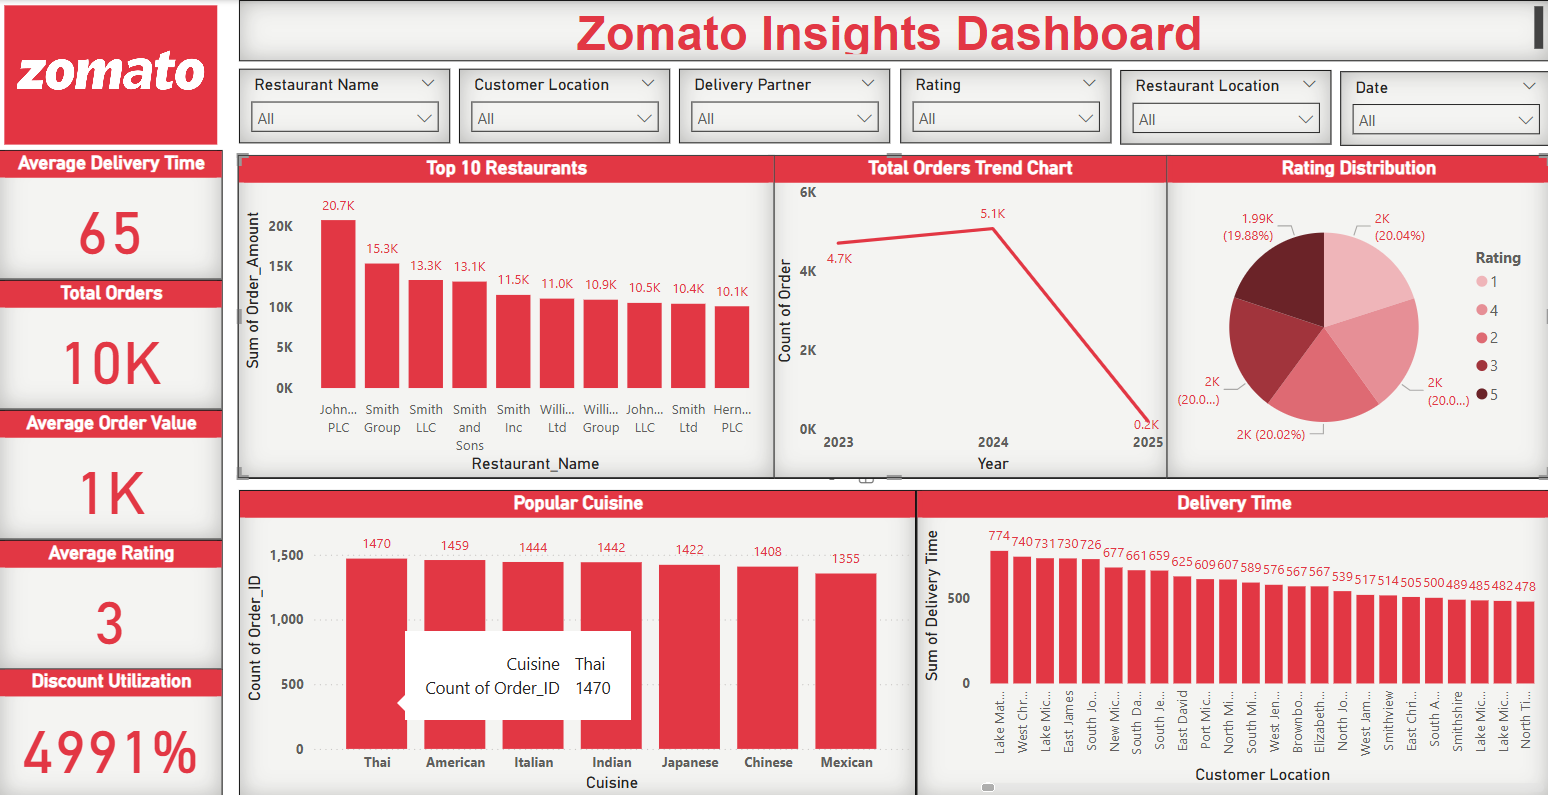

The dashboard page shown, as its layout file describes it:
{"tool":"powerbi","page":{"name":"Zomato Insights Dashboard","canvas":[1400,720],"ordinal":1},"visuals":[{"type":"card","title":"Total Orders","fields":{"Values":["Count(Sheet1.Order_ID)"]},"box":[0,252.5,201.5,116.9],"z":0},{"type":"card","title":"Average Delivery Time","fields":{"Values":["Avg(Sheet1.Delivery_Time_Minutes)"]},"box":[0,135.6,201.5,116.9],"z":1000},{"type":"card","title":"Average Order Value","fields":{"Values":["Avg(Sheet1.Order_Amount)"]},"box":[0,369.5,201.5,116.9],"z":2000},{"type":"card","title":"Average Rating","fields":{"Values":["Avg(Sheet1.Rating)"]},"box":[0,486.4,201.5,116.9],"z":3000},{"type":"card","title":"Discount Utilization","fields":{"Values":["Sheet1.Discount Utilization (%)"]},"box":[0,603.3,201.5,116.9],"z":4000},{"type":"lineChart","title":"Total Orders Trend Chart","fields":{"Category":["Sheet1.Order_Date.Variation.Date Hierarchy.Year"],"Y":["CountNonNull(Sheet1.Order_ID)"]},"box":[694.7,139.6,362,292.3],"z":5000,"group":"g3"},{"type":"columnChart","title":"Delivery Time","fields":{"Category":["Sheet1.Customer_Location"],"Y":["Sum(Sheet1.Delivery_Time_Minutes)"]},"box":[827.2,441.6,572.2,278.6],"z":5000},{"type":"columnChart","title":"Popular Cuisine","fields":{"Category":["Sheet1.Cuisine"],"Y":["CountNonNull(Sheet1.Order_ID)"]},"box":[216.4,441.6,610.8,278.6],"z":6000},{"type":"textbox","box":[216.7,0,1182,55.2],"z":7000},{"type":"columnChart","title":"Top 10 Restaurants","fields":{"Category":["Sheet1.Restaurant_Name"],"Y":["Sum(Sheet1.Order_Amount)"]},"box":[215.2,139.6,483.9,292.3],"z":7000,"group":"g3"},{"type":"image","box":[0,0,201.5,135.6],"z":8000},{"type":"pieChart","title":"Rating Distribution","fields":{"Y":["CountNonNull(Sheet1.Order_ID)"],"Category":["Sheet1.Rating"]},"box":[1052.4,139.6,345.8,292.3],"z":8000,"group":"g3"},{"type":"group","id":"g1","title":"Group 1","box":[216.7,61.7,1183.3,69.6],"z":9000},{"type":"group","id":"g2","title":"Group 2","box":[215.2,139.6,1183,292.3],"z":10000},{"type":"group","id":"g3","title":"Group 3","box":[215.2,139.6,1183,292.3],"z":10001,"group":"g2"},{"type":"slicer","fields":{"Values":["Sheet1.Restaurant_Name"]},"box":[216.7,61.7,190.4,67],"z":12000,"group":"g1"},{"type":"slicer","fields":{"Values":["Sheet1.Customer_Location"]},"box":[415.3,61.7,190.4,67],"z":13000,"group":"g1"},{"type":"slicer","fields":{"Values":["Sheet1.Delivery_Partner"]},"box":[613.8,61.7,190.4,67],"z":14000,"group":"g1"},{"type":"slicer","fields":{"Values":["Sheet1.Rating"]},"box":[812.4,61.7,190.4,67],"z":15000,"group":"g1"},{"type":"slicer","fields":{"Values":["Sheet1.Restaurant_Location"]},"box":[1011,63,190.4,67],"z":16000,"group":"g1"},{"type":"slicer","fields":{"Values":["Sheet1.Order_Date"]},"box":[1209.6,64.3,190.4,67],"z":17000,"group":"g1"}]}

Visuals, with their boxes in screenshot pixels (x1, y1, x2, y2), scaled from the page's 1400x720 canvas onto the 1548x795 screenshot:
"Total Orders" card: bbox(0, 279, 223, 408)
"Average Delivery Time" card: bbox(0, 150, 223, 279)
"Average Order Value" card: bbox(0, 408, 223, 537)
"Average Rating" card: bbox(0, 537, 223, 666)
"Discount Utilization" card: bbox(0, 666, 223, 794)
"Total Orders Trend Chart" lineChart: bbox(768, 154, 1168, 477)
"Delivery Time" columnChart: bbox(915, 488, 1547, 794)
"Popular Cuisine" columnChart: bbox(239, 488, 915, 794)
textbox: bbox(240, 0, 1547, 61)
"Top 10 Restaurants" columnChart: bbox(238, 154, 773, 477)
image: bbox(0, 0, 223, 150)
"Rating Distribution" pieChart: bbox(1164, 154, 1546, 477)
"Group 1" group: bbox(240, 68, 1547, 145)
"Group 2" group: bbox(238, 154, 1546, 477)
"Group 3" group: bbox(238, 154, 1546, 477)
slicer - Sheet1.Restaurant_Name: bbox(240, 68, 450, 142)
slicer - Sheet1.Customer_Location: bbox(459, 68, 670, 142)
slicer - Sheet1.Delivery_Partner: bbox(679, 68, 889, 142)
slicer - Sheet1.Rating: bbox(898, 68, 1109, 142)
slicer - Sheet1.Restaurant_Location: bbox(1118, 70, 1328, 144)
slicer - Sheet1.Order_Date: bbox(1337, 71, 1547, 145)
